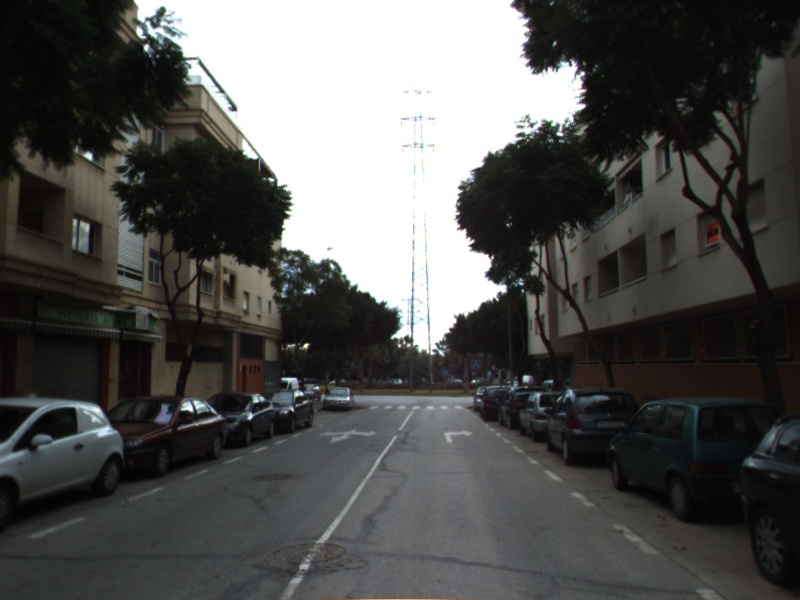RIGHT: (442, 427, 475, 444)
